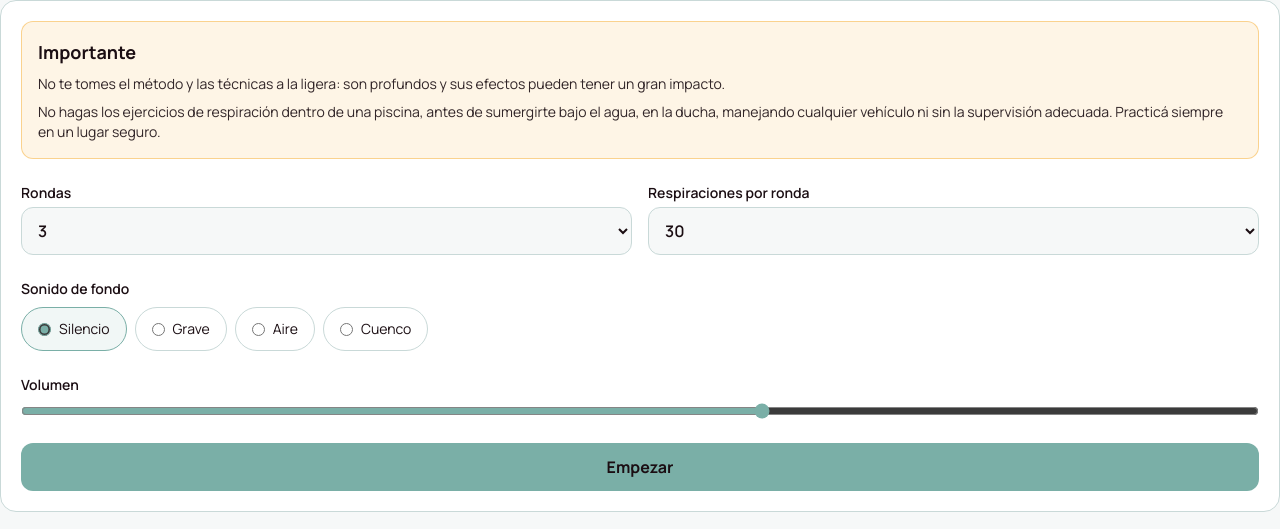
it: the breathing circle › shows the counter in the centre of the circle, and no visible Inhalá / Soltá text
Select "2" in the dropdown labelled "Rondas" at (326, 231), box [21, 207, 632, 255]
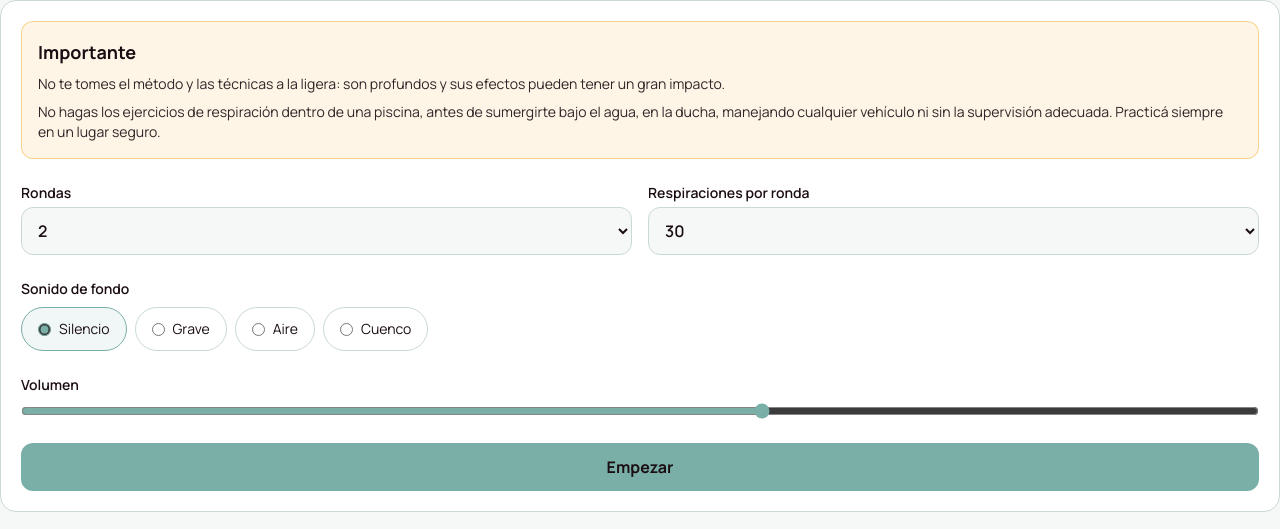
Select "10" in the dropdown labelled "Respiraciones por ronda" at (954, 231), box [648, 207, 1259, 255]
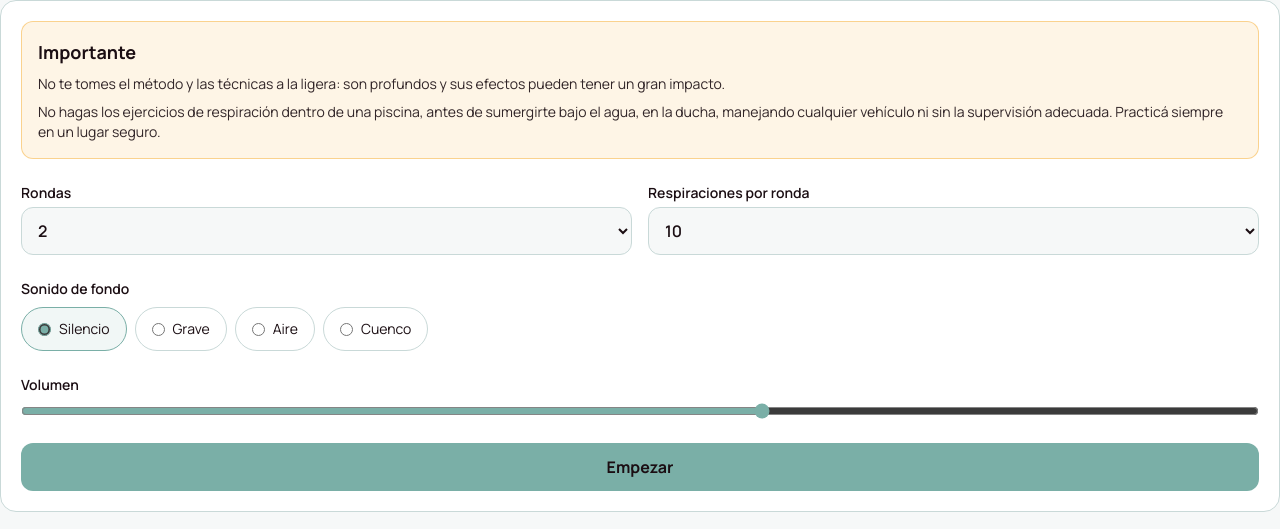
Click the button "Empezar" at (640, 467), box [21, 443, 1259, 491]
Wait 3000 ms
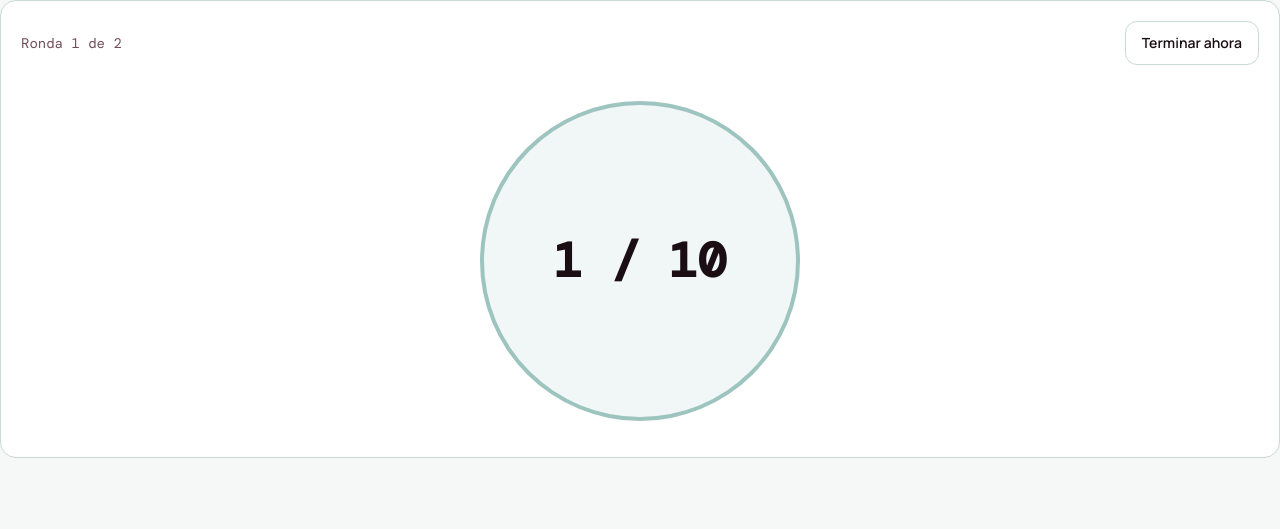
expect the element showing "1 / 10" is shown: met, box [480, 101, 800, 421]
expect the text "1 / 10" is shown: met, box [554, 237, 726, 285]
